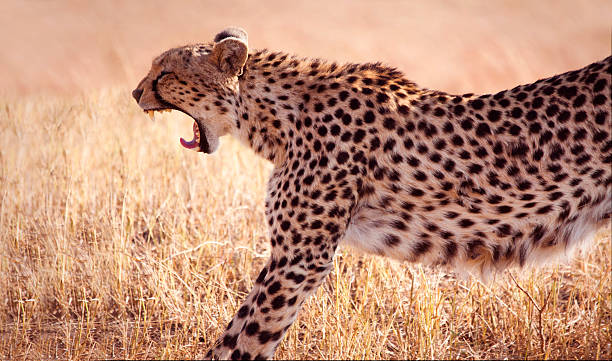cheetah: (115, 24, 254, 170)
